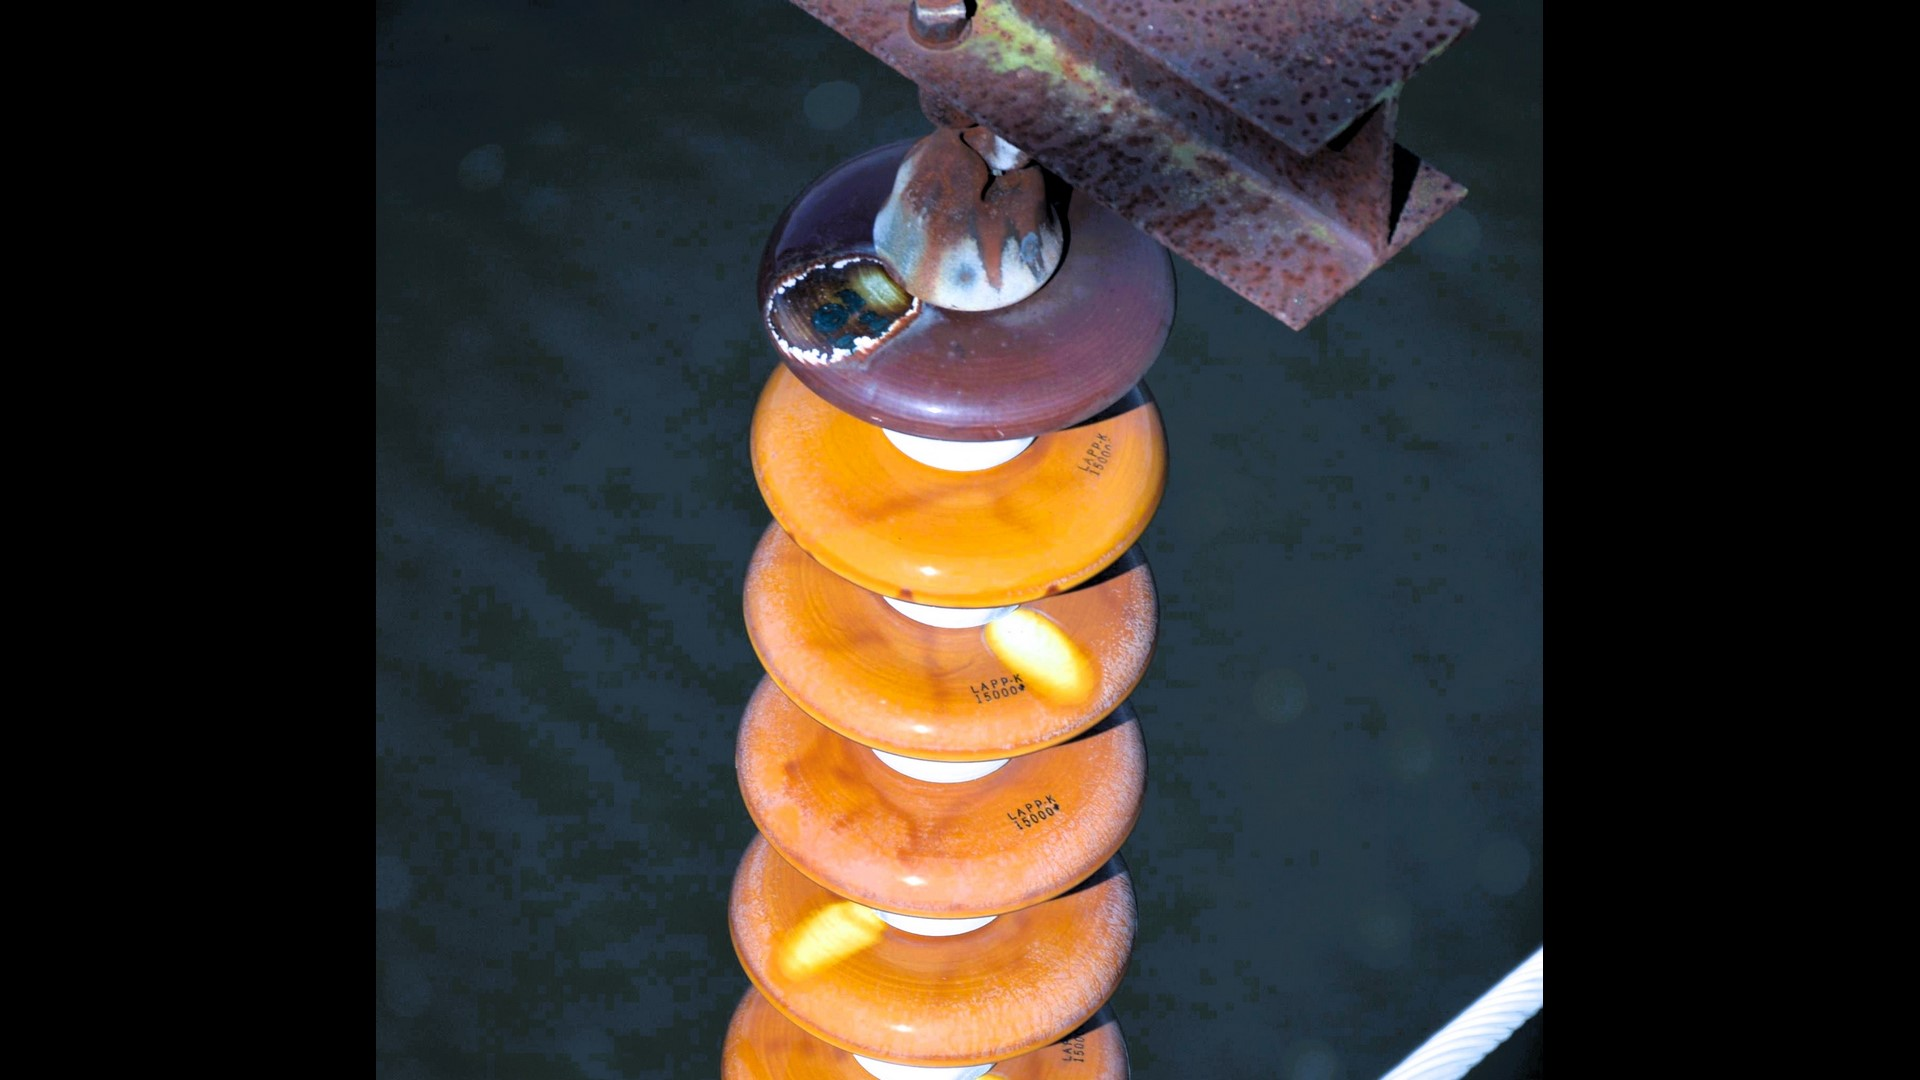Insulator flashover: (746, 121, 1183, 444), (735, 524, 1171, 767), (724, 835, 1142, 1073)
